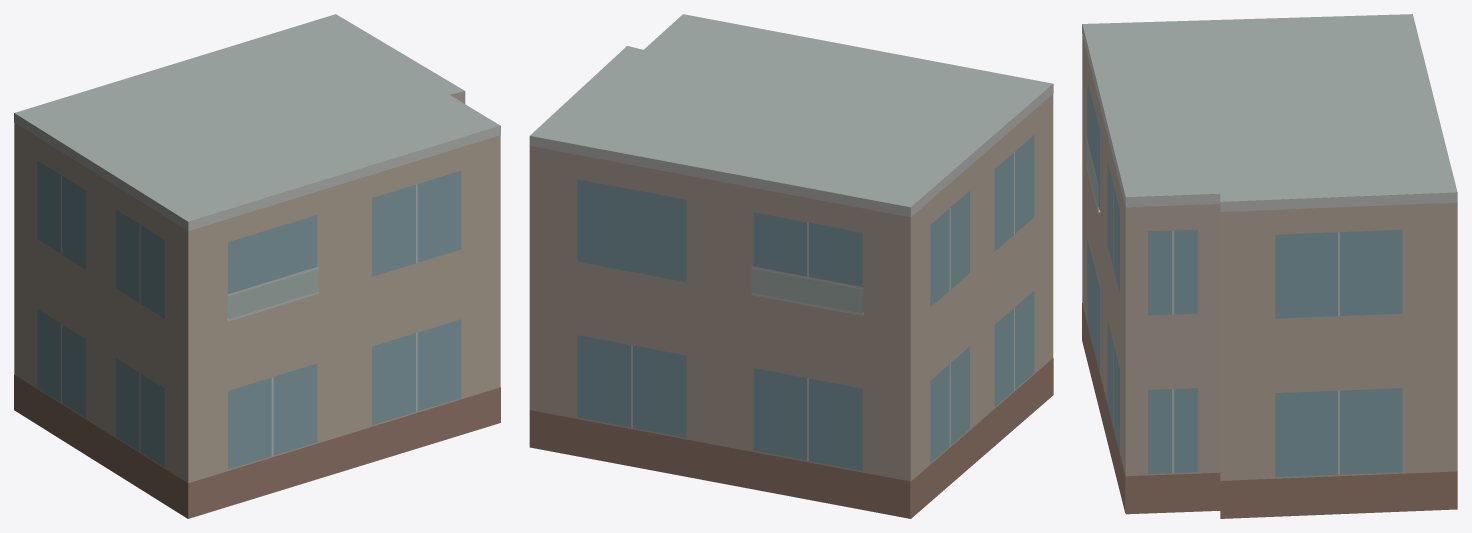
File: survey-upis-32952810.glb
The picture shows the model from 3 angles, left to right: view 1: azimuth 30°, elevation 25°; view 2: azimuth 150°, elevation 25°; view 3: azimuth 270°, elevation 25°; orthographic projection. The views are drawn at different scales.
Visible parts, largest first — view 1: survey-upis-32952810.tmp; view 2: survey-upis-32952810.tmp; view 3: survey-upis-32952810.tmp.
Part boxes in pixels (left/top/right/bottom): survey-upis-32952810.tmp: left=14, top=14, right=500, bottom=518; survey-upis-32952810.tmp: left=529, top=14, right=1053, bottom=518; survey-upis-32952810.tmp: left=1082, top=14, right=1457, bottom=518.
Size of the model in its own units: 9.67 by 7.6 by 8.16.
